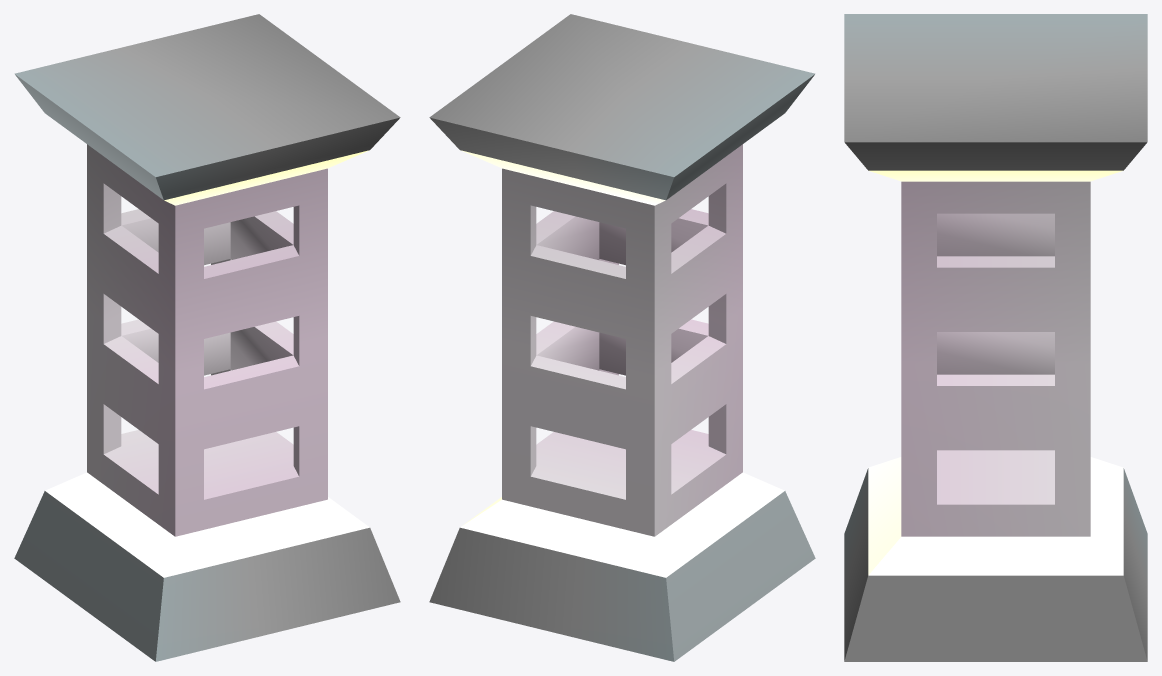
File: Support_Pillar.fbx
3 views of the same model, side by side, from view 1: azimuth 30°, elevation 25°; view 2: azimuth 150°, elevation 25°; view 3: azimuth 270°, elevation 25° (orthographic). The views are drawn at different scales.
Parts seen in each view (by area): view 1: Support_Pillar; view 2: Support_Pillar; view 3: Support_Pillar.
Part boxes in pixels (x1,y1,x2,y2): Support_Pillar: (14,14,400,661); Support_Pillar: (429,14,815,661); Support_Pillar: (844,14,1147,661).
Size of the model in its own units: 81.99 by 155 by 81.99.
